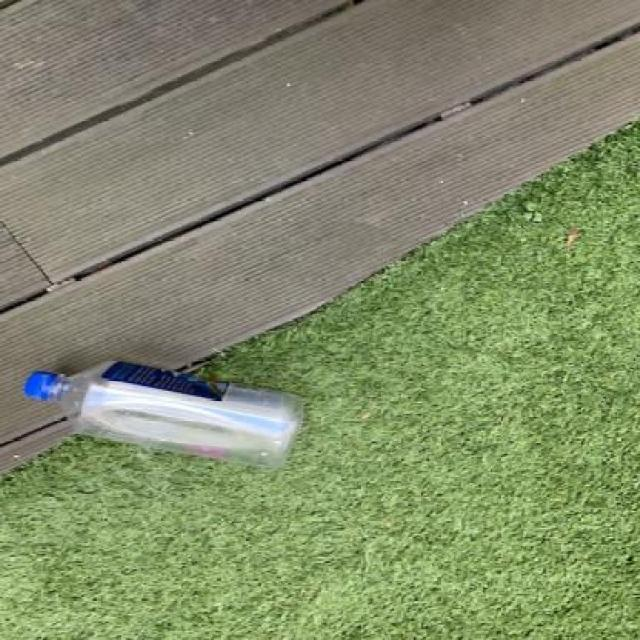trash: (26, 355, 314, 477)
